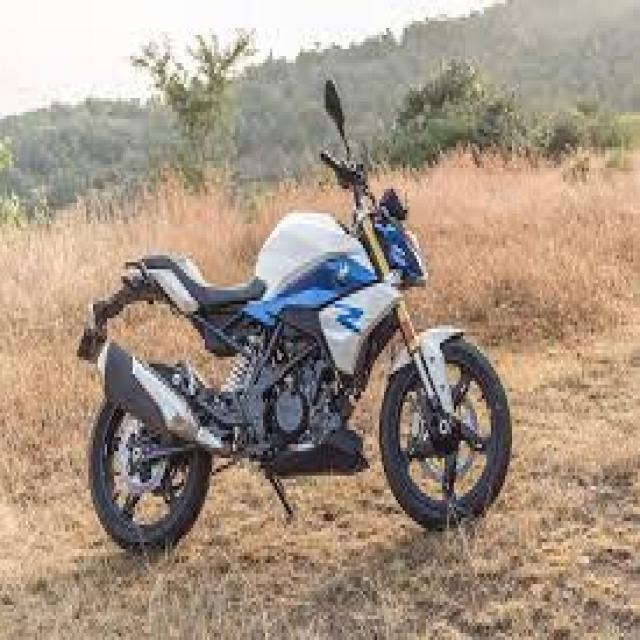Bike: (76, 76, 512, 557)
